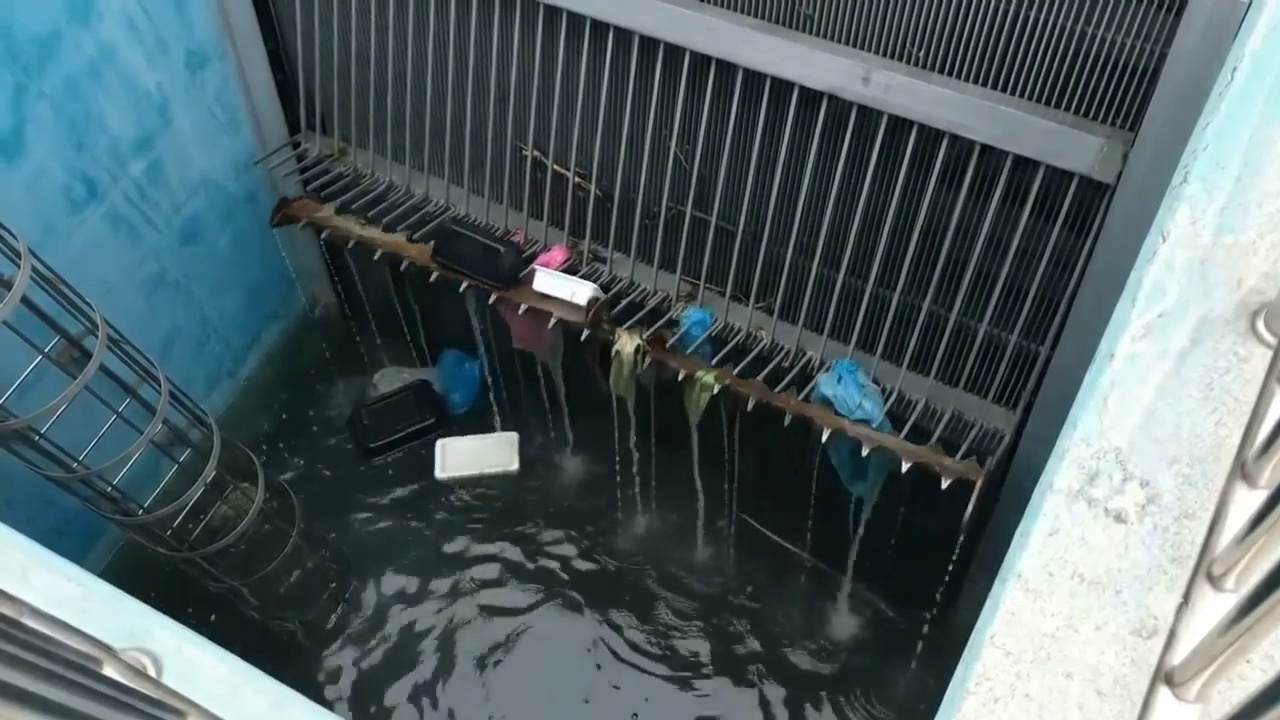debris: (351, 348, 482, 456), (432, 229, 603, 308), (813, 361, 893, 431), (434, 430, 519, 479), (499, 305, 563, 368), (828, 440, 884, 491), (609, 345, 659, 402), (675, 369, 722, 425), (669, 306, 714, 360)
